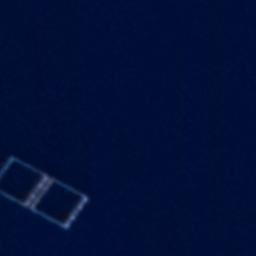square_solid: (27, 174, 94, 234), (1, 151, 54, 213)
